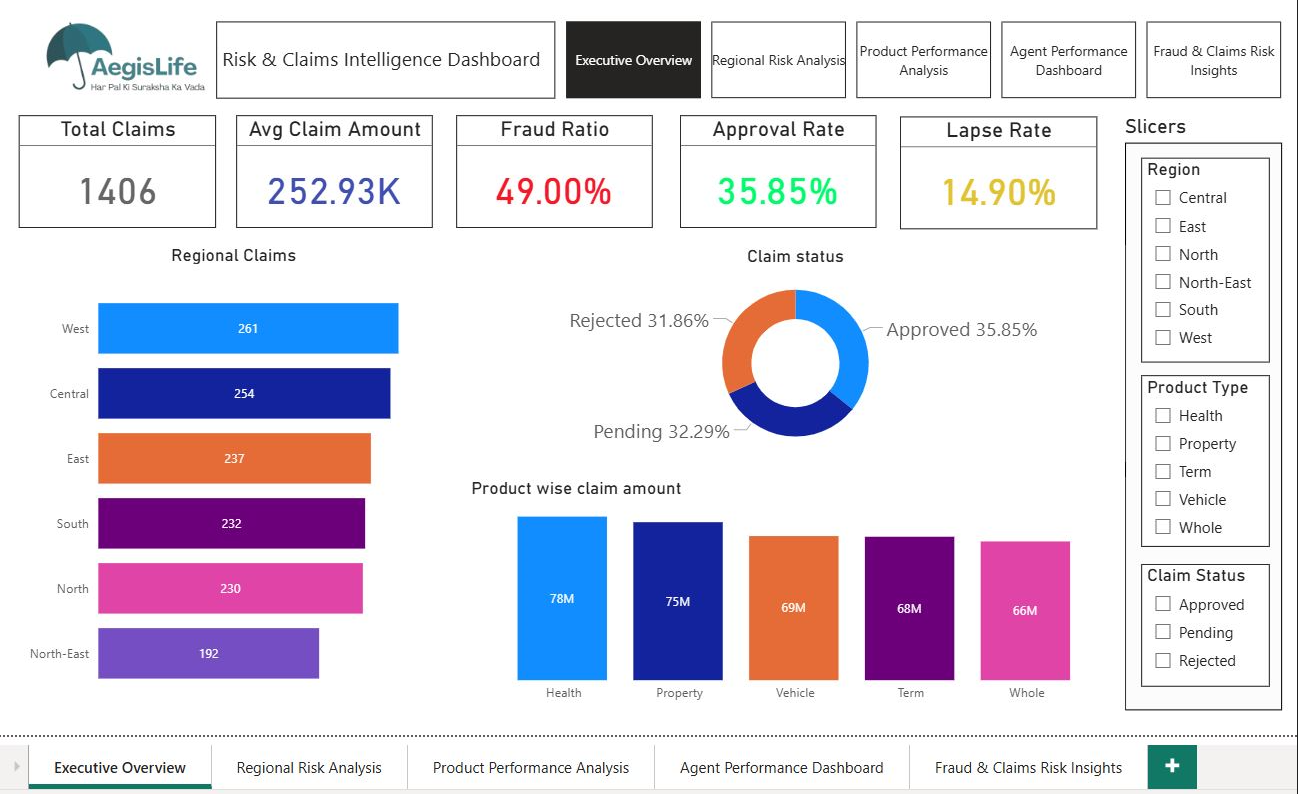

This screenshot's page, from the dashboard's own definition file:
{"tool":"powerbi","page":{"name":"Executive Overview","canvas":[1280,720],"ordinal":0},"visuals":[{"type":"shape","title":"Slicers","box":[1100.5,122.4,151.7,574.6],"z":0},{"type":"textbox","box":[223.2,31.4,326.9,74.8],"z":1000},{"type":"card","title":"Total Claims","fields":{"Values":["AllMeasures.Total Claims"]},"box":[32,122.4,190.6,108.5],"z":2000},{"type":"card","title":"Avg Claim Amount","fields":{"Values":["AllMeasures.Avg Claim Amount"]},"box":[242.1,122.4,189.2,108.5],"z":3000},{"type":"card","title":"Approval Rate","fields":{"Values":["AllMeasures.Approval Rate 1%"]},"box":[670.6,122.4,189.2,108.5],"z":4000},{"type":"card","title":"Fraud Ratio","fields":{"Values":["AllMeasures.Fraud Ratio %"]},"box":[455,122.4,189.2,108.5],"z":5000},{"type":"card","title":"Lapse Rate","fields":{"Values":["AllMeasures.Lapse Rate"]},"box":[882.6,123.1,190,108.6],"z":6000},{"type":"barChart","title":"Regional Claims","fields":{"Y":["AllMeasures.Total Claims"],"Category":["aegislife_insurance customer_master.region"],"Series":["aegislife_insurance customer_master.region"]},"box":[32.6,246.1,415,451.2],"z":7000},{"type":"columnChart","title":"Product wise claim amount","fields":{"Y":["AllMeasures.Total Claim Amount"],"Category":["aegislife_insurance policy_details.product_type"],"Series":["aegislife_insurance policy_details.product_type"]},"box":[464.5,471.7,635.8,225.6],"z":8000},{"type":"donutChart","title":"Claim status","fields":{"Category":["aegislife_insurance claim_history.claim_status"],"Y":["CountNonNull(aegislife_insurance claim_history.policy_id)"]},"box":[464.5,247.3,635.8,208.7],"z":9000},{"type":"pageNavigator","box":[561,31.4,692.5,74.8],"z":10000},{"type":"slicer","title":"Region","fields":{"Values":["aegislife_insurance agent_info.region"]},"box":[1115.8,162.8,123.8,197.6],"z":11000},{"type":"slicer","title":"Product Type","fields":{"Values":["aegislife_insurance policy_details.product_type"]},"box":[1115.8,372.9,123.8,165.6],"z":12000},{"type":"slicer","title":"Claim Status","fields":{"Values":["aegislife_insurance claim_history.claim_status"]},"box":[1115.8,555.1,123.8,118.3],"z":13000},{"type":"image","box":[0,0,265.4,143.6],"z":14000}]}

Visuals, with their boxes on the page's 1280x720 design canvas (x1, y1, x2, y2). These are canvas units, not pixel positions in the 1298x794 screenshot, which may show the page scaled, cropped or inside an application window:
"Slicers" shape: x1=1100 y1=122 x2=1252 y2=697
textbox: x1=223 y1=31 x2=550 y2=106
"Total Claims" card: x1=32 y1=122 x2=223 y2=231
"Avg Claim Amount" card: x1=242 y1=122 x2=431 y2=231
"Approval Rate" card: x1=671 y1=122 x2=860 y2=231
"Fraud Ratio" card: x1=455 y1=122 x2=644 y2=231
"Lapse Rate" card: x1=883 y1=123 x2=1073 y2=232
"Regional Claims" barChart: x1=33 y1=246 x2=448 y2=697
"Product wise claim amount" columnChart: x1=464 y1=472 x2=1100 y2=697
"Claim status" donutChart: x1=464 y1=247 x2=1100 y2=456
pageNavigator: x1=561 y1=31 x2=1254 y2=106
"Region" slicer: x1=1116 y1=163 x2=1240 y2=360
"Product Type" slicer: x1=1116 y1=373 x2=1240 y2=538
"Claim Status" slicer: x1=1116 y1=555 x2=1240 y2=673
image: x1=0 y1=0 x2=265 y2=144
